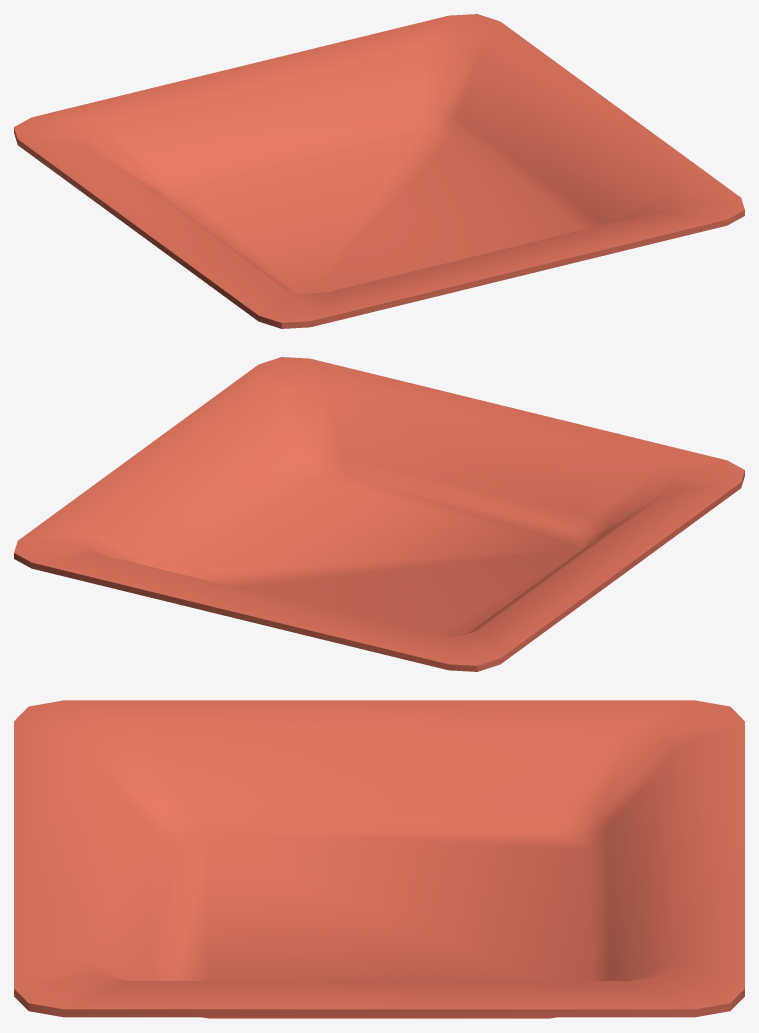
The model's file is plates_b.glb.
3 renders of one model, top to bottom at view 1: azimuth 30°, elevation 25°; view 2: azimuth 150°, elevation 25°; view 3: azimuth 270°, elevation 25°, orthographic. The views are drawn at different scales.
Visible parts, largest first — view 1: body; view 2: body; view 3: body.
Boxes of the visible parts, x1,y1,x2,y2 form: body: [14, 14, 744, 328]; body: [14, 357, 744, 671]; body: [14, 700, 744, 1018].
Bounding box in the file's own units: 0.18 × 0.02 × 0.18.
